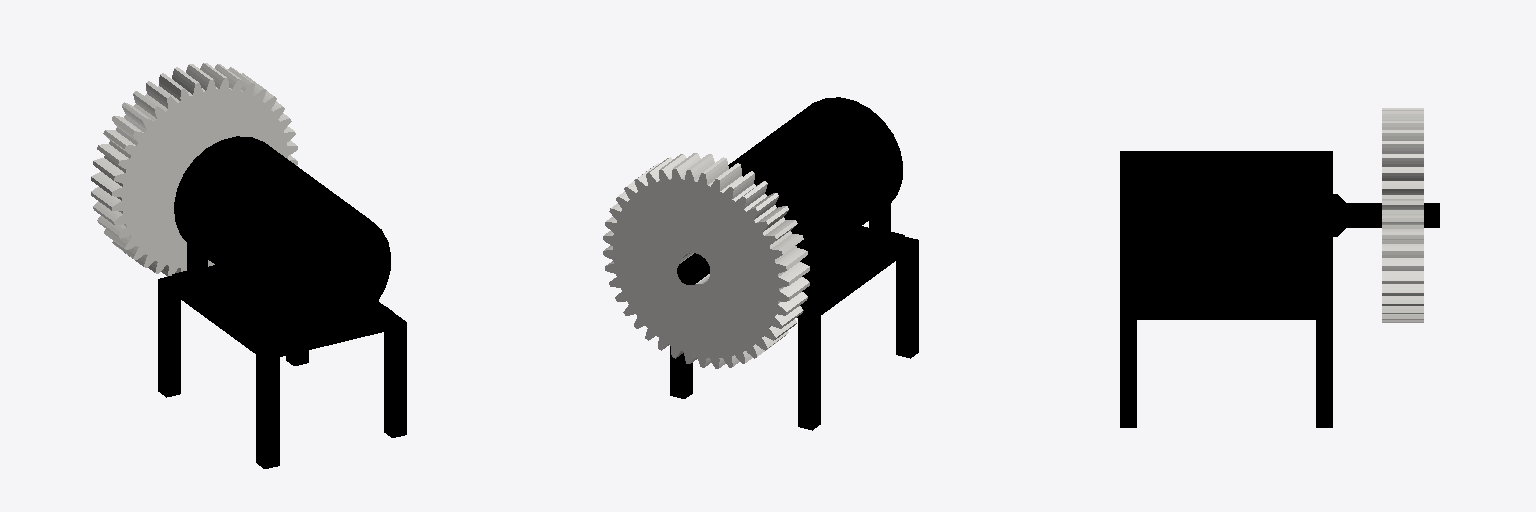
File: motor.obj
3 views of the same model, side by side, from view 1: azimuth 30°, elevation 25°; view 2: azimuth 150°, elevation 25°; view 3: azimuth 270°, elevation 25° (orthographic).
Parts seen in each view (by area): view 1: ramme, stort_tannhjul; view 2: stort_tannhjul, ramme; view 3: ramme, stort_tannhjul.
Part boxes in pixels (x1,y1,x2,y2): ramme: (158,136,406,468); stort_tannhjul: (91,63,297,276); stort_tannhjul: (603,153,809,368); ramme: (670,97,918,430); ramme: (1120,151,1439,427); stort_tannhjul: (1382,108,1423,322).
Bounding box in the file's own units: 25.16 × 35.55 × 37.5.